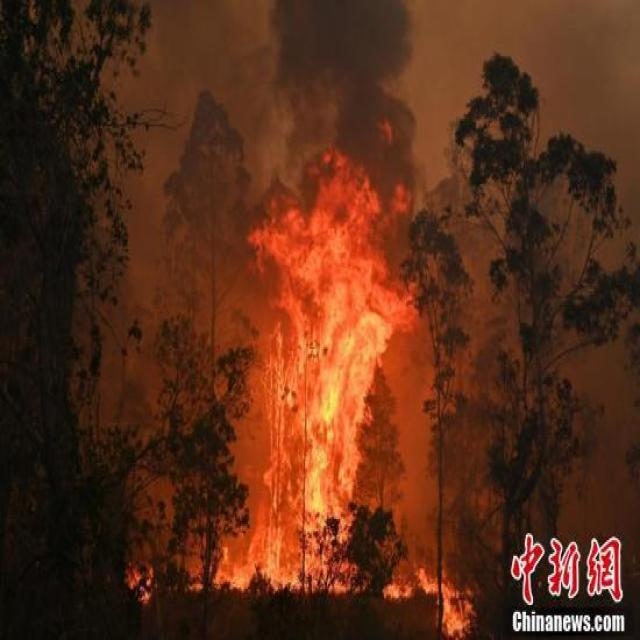fire: (217, 135, 475, 628), (115, 542, 158, 605)
